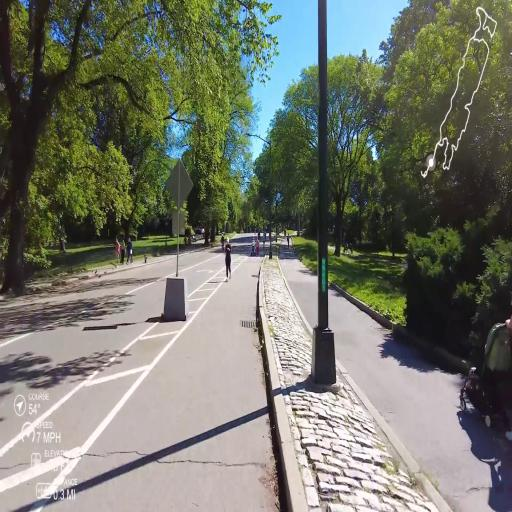Street_Light: (241, 129, 274, 260)
